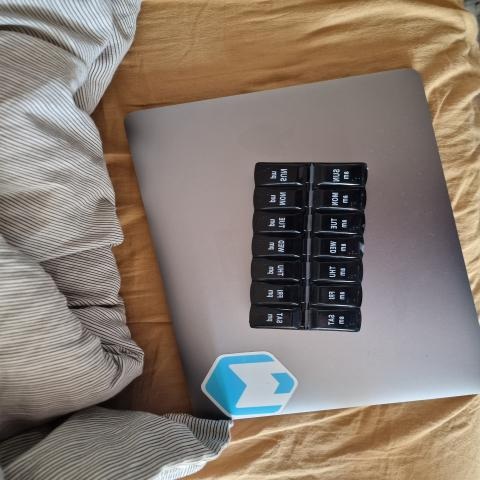FRI-am: (311, 287, 359, 305)
FRI-pm: (249, 285, 303, 304)
MON-am: (313, 189, 364, 212)
MON-pm: (251, 188, 308, 209)
SAT-am: (311, 308, 360, 330)
SAT-pm: (252, 306, 303, 328)
SUN-am: (311, 163, 360, 191)
SUN-pm: (252, 163, 304, 187)
THU-am: (311, 261, 360, 285)
THU-pm: (251, 259, 304, 279)
TUE-am: (311, 213, 365, 235)
TUE-pm: (251, 211, 307, 234)
WED-am: (310, 235, 362, 259)
WED-pm: (249, 236, 306, 258)
